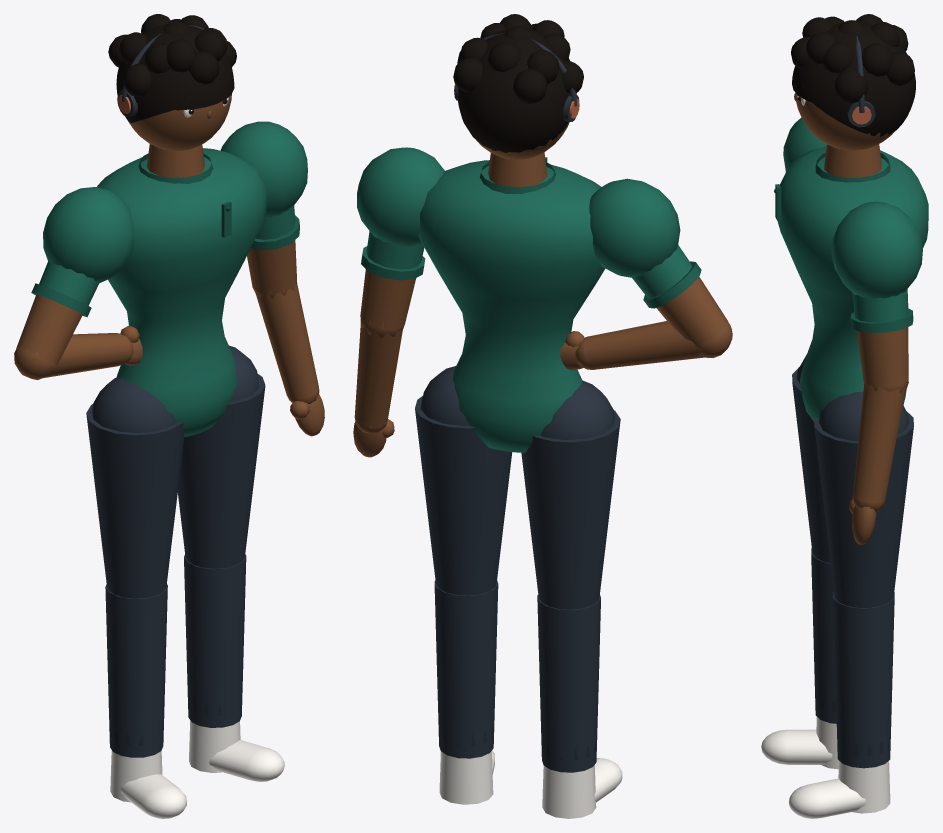
File: 03-yosef.glb
3 renders of one model, left to right at view 1: azimuth 30°, elevation 25°; view 2: azimuth 150°, elevation 25°; view 3: azimuth 270°, elevation 25°, orthographic. The views are drawn at different scales.
Parts seen in each view (by area): view 1: Yosef, skull, armR, elbow (×2), armL; view 2: Yosef, skull, armR, armL, elbow (×2); view 3: Yosef, skull, armL, elbow, armR.
Part boxes in pixels (x1,y1,x2,y2): Yosef: (86, 144, 284, 818); skull: (108, 14, 236, 150); armR: (16, 187, 134, 365); elbow (×2): (14, 276, 324, 436); armL: (220, 121, 307, 293); Yosef: (415, 152, 622, 818); skull: (453, 14, 583, 159); armR: (589, 178, 728, 347); armL: (357, 147, 445, 328); elbow (×2): (353, 317, 732, 457); Yosef: (761, 144, 928, 818); skull: (791, 14, 915, 150); armL: (831, 201, 922, 385); elbow: (849, 376, 908, 544); armR: (783, 117, 826, 171).
Bounding box in the file's own units: 0.7924 × 1.71 × 0.3398.
